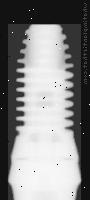BioHorizons: (8, 24, 81, 200)
